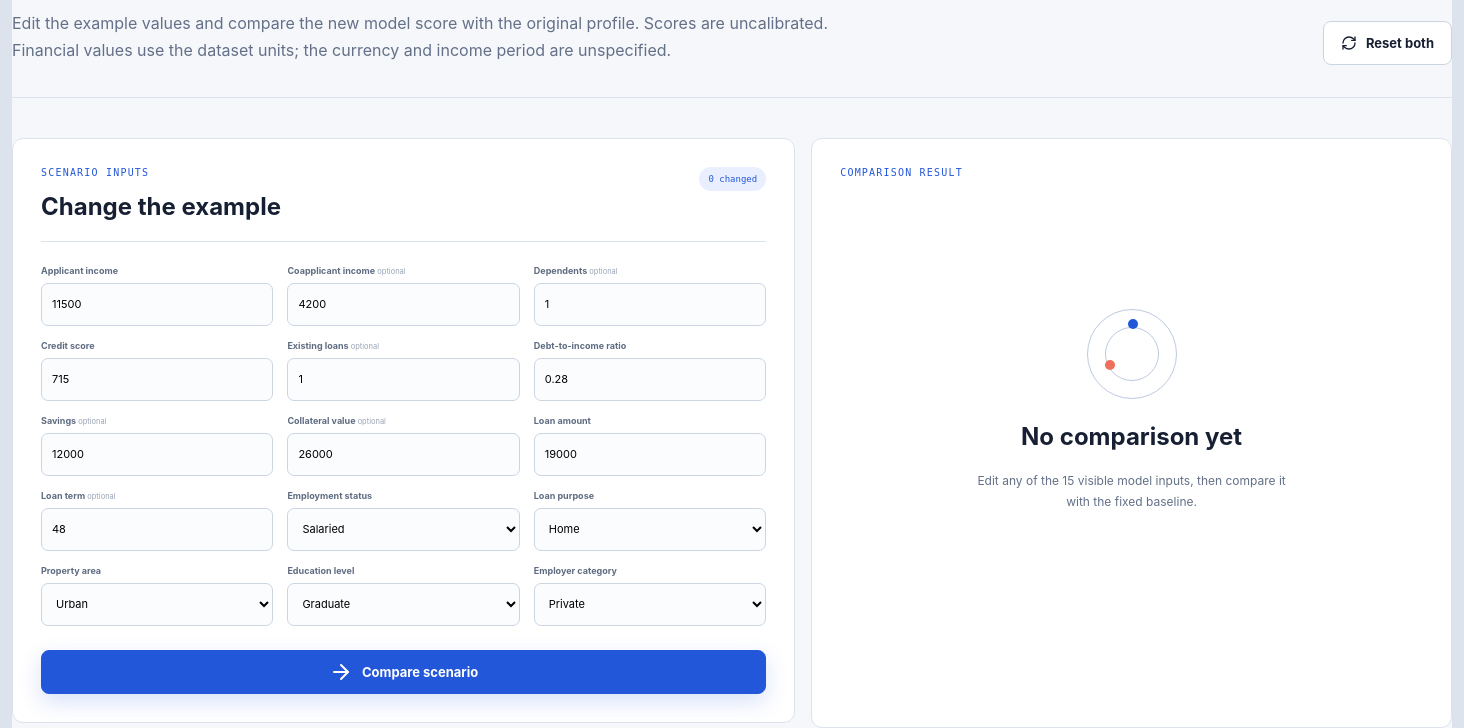
Simulator request cancellation › ignores a pending result after reset
(page scrolled)
Click the button "Compare scenario" at (404, 672), box [41, 650, 766, 694]
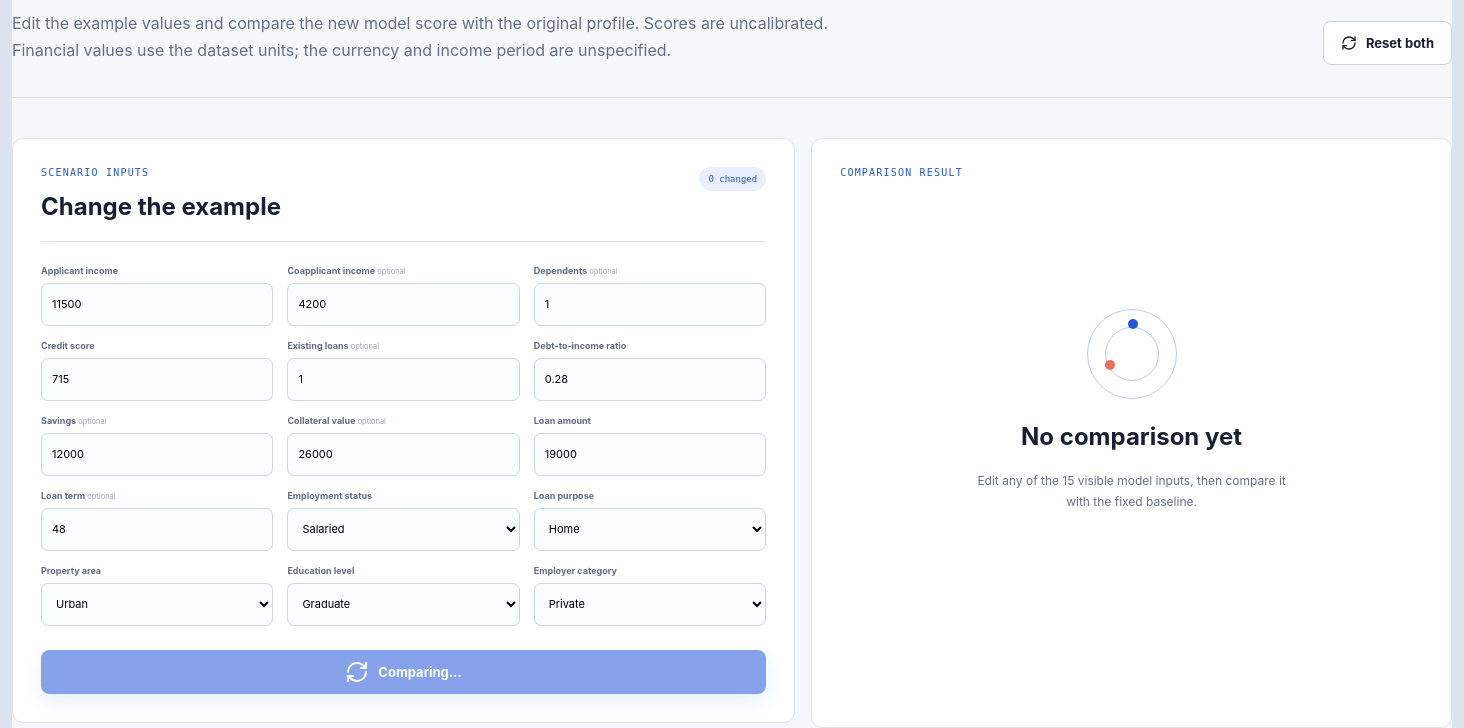
Click the button "Reset both" at (1388, 43), box [1323, 21, 1452, 65]
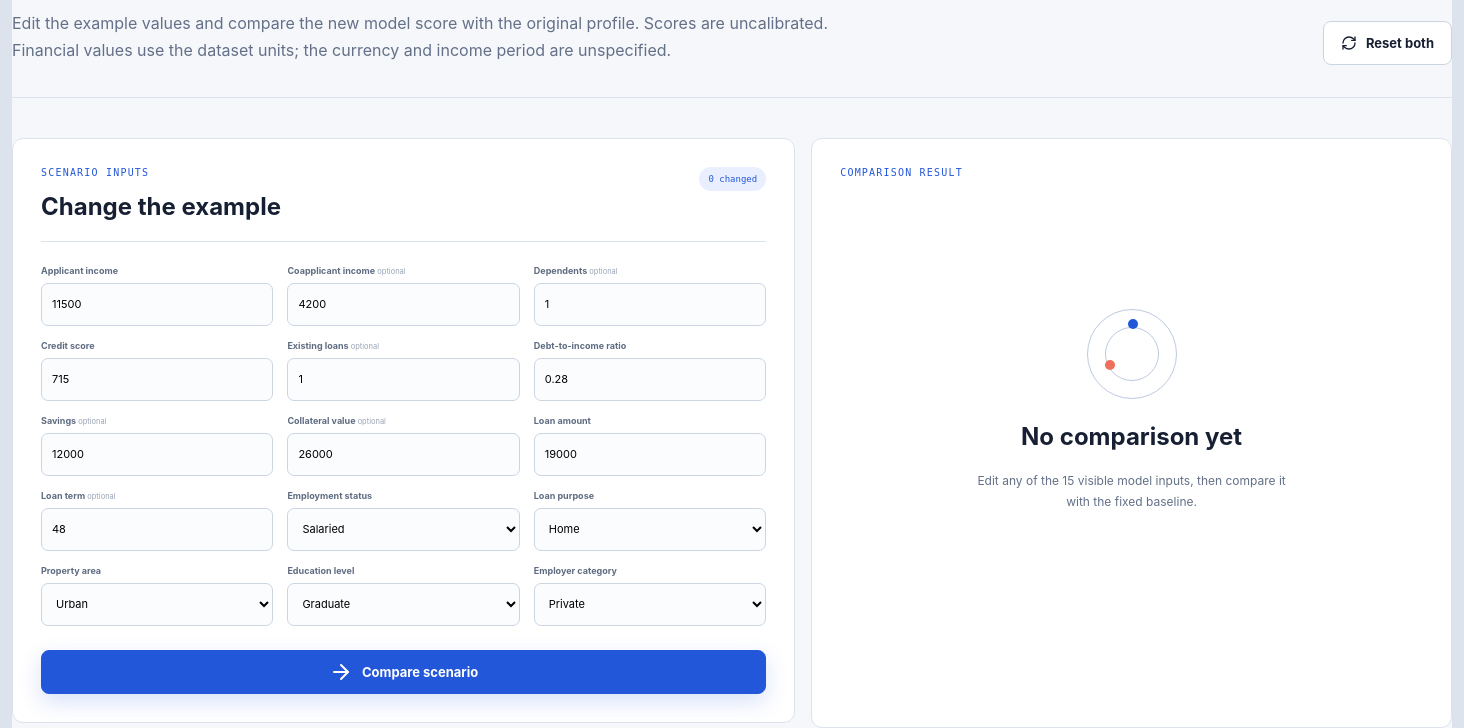
Expected: the heading "No comparison yet" is shown, [1021, 422, 1242, 451]
Now the button "Compare scenario" is enabled, box [41, 650, 766, 694]
